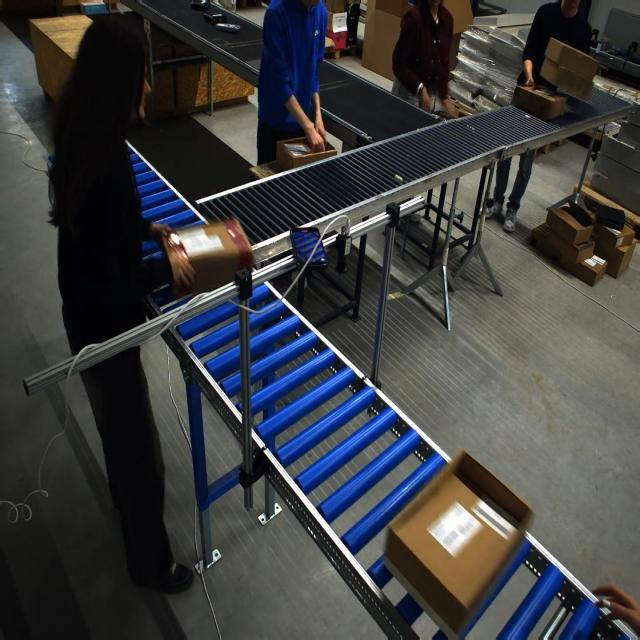box: (382, 448, 530, 636), (154, 217, 277, 302), (275, 136, 334, 172), (448, 98, 478, 119)
product: (203, 12, 226, 24), (214, 23, 240, 32), (191, 0, 211, 10)
